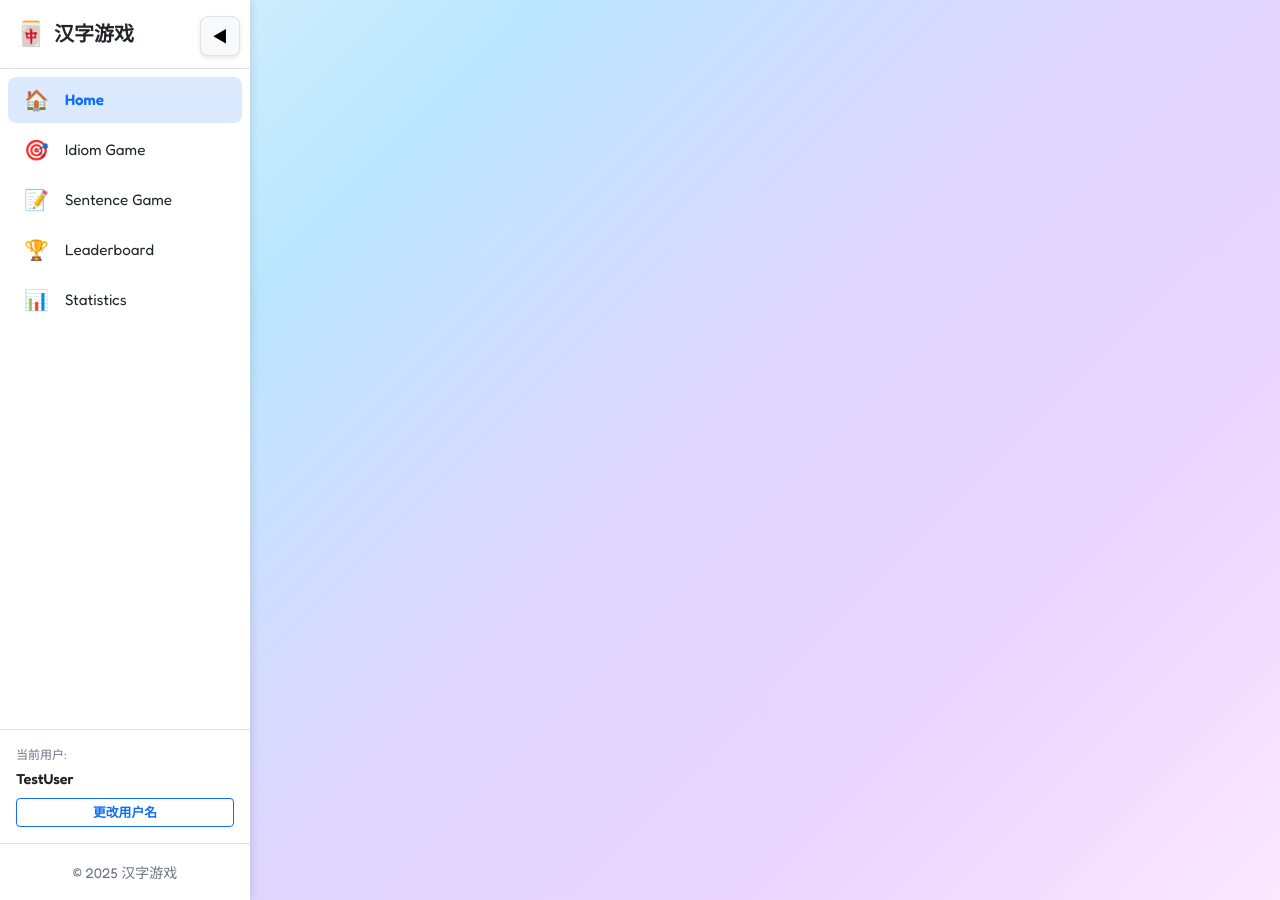
Test case: Sidebar Component › Desktop Collapse Functionality › desktop toggle shows expand icon when collapsed
Click the button named "Toggle sidebar collapse".
click(220, 36)  # box 200,16 -> 240,56
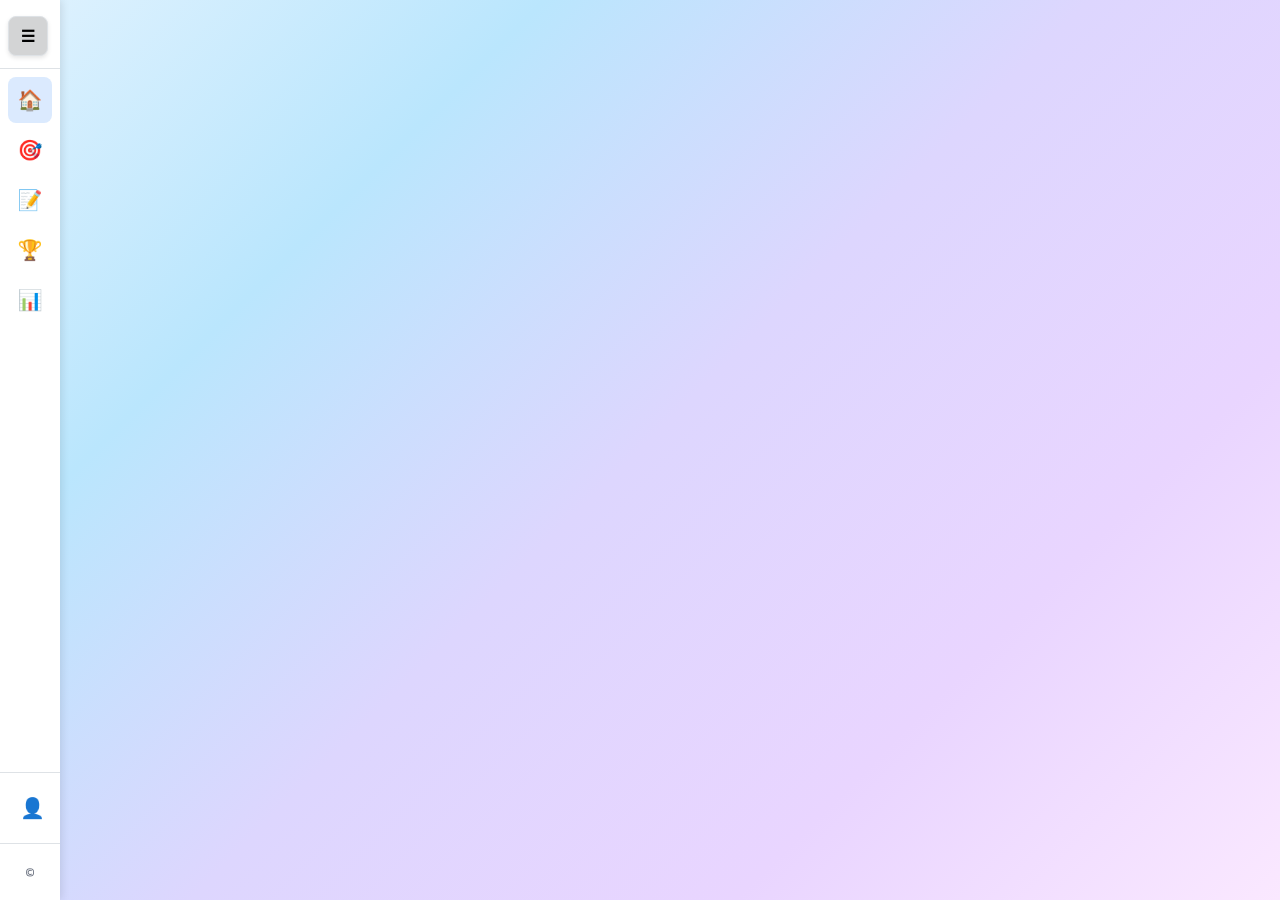
Expected: the button named "Toggle sidebar collapse" reads "☰", 8,16 -> 48,56
